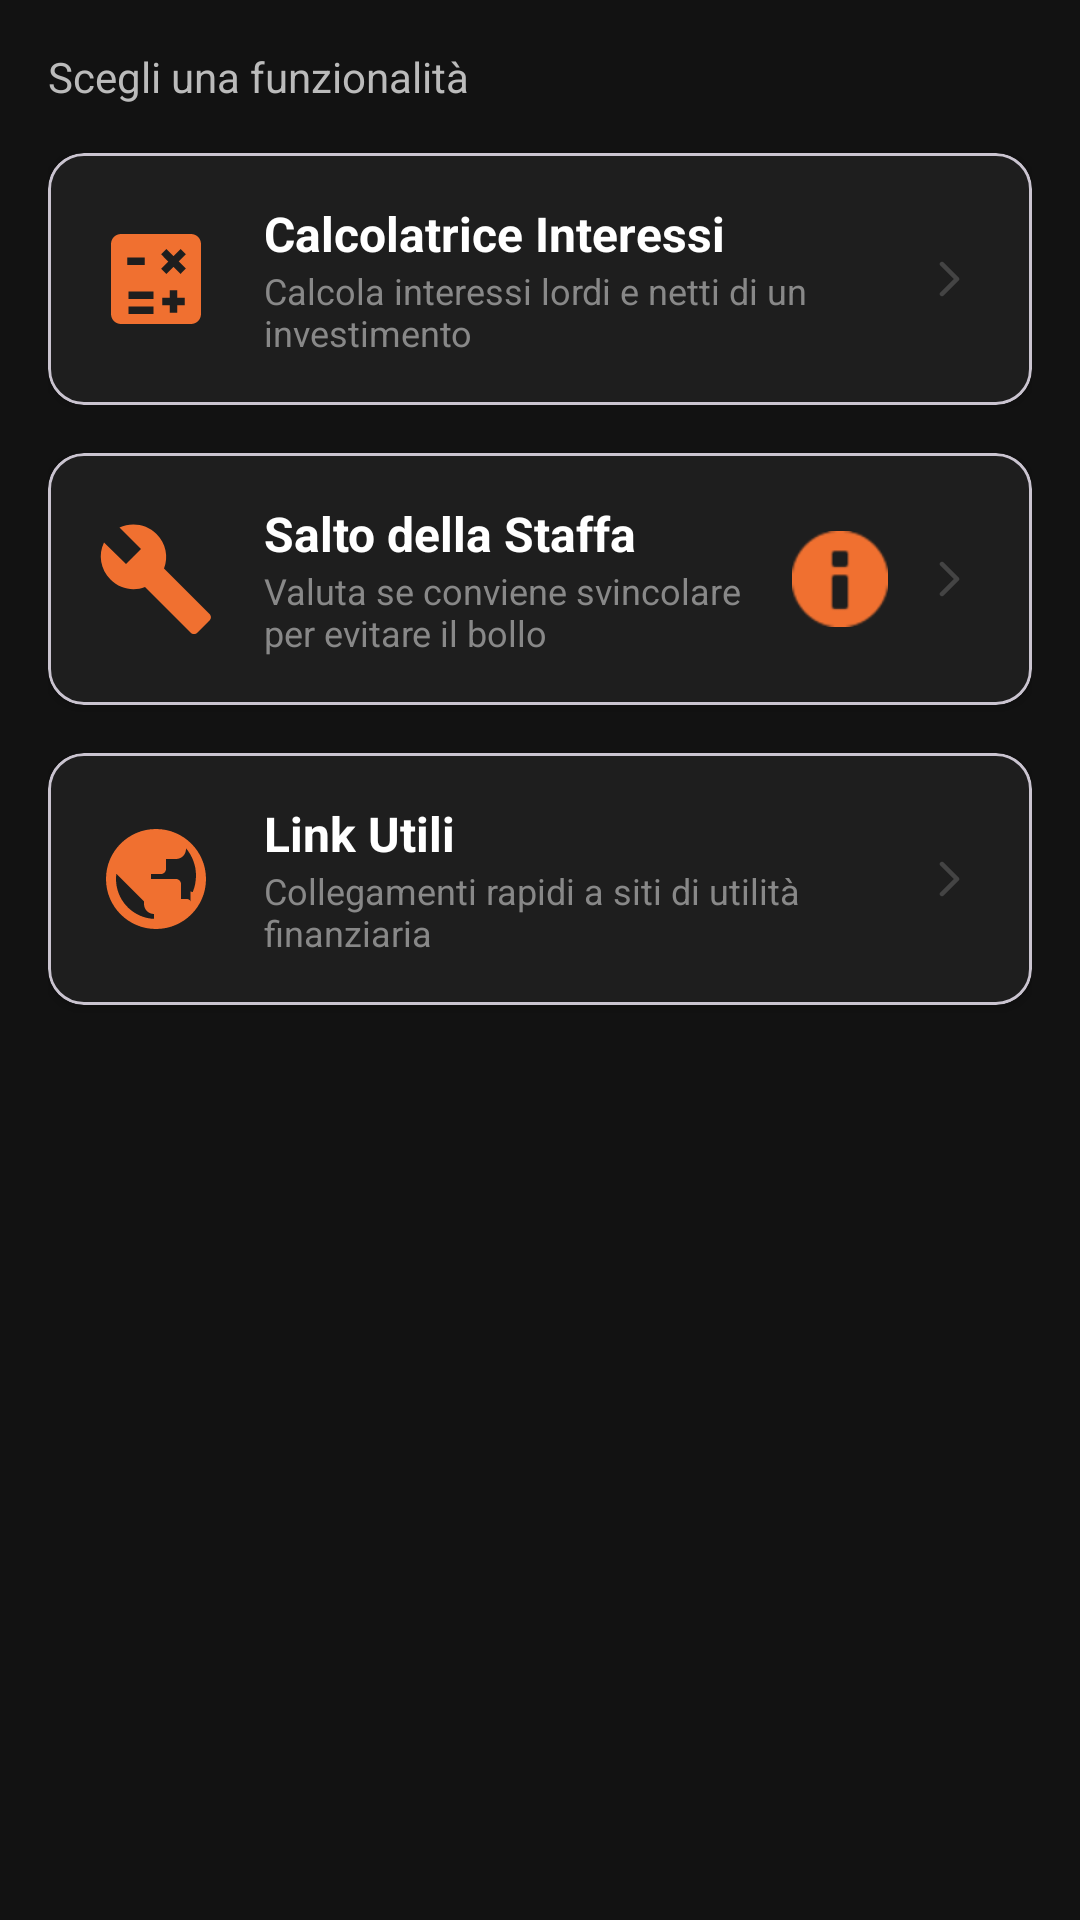

Icon bounding boxes for this 1080w x 1920h phone screenshot, format (x1, y1, x2, y2):
calculate: (111, 234, 201, 324)
globe: (106, 829, 206, 929)
info: (792, 531, 888, 627)
utility: (100, 524, 211, 634)
